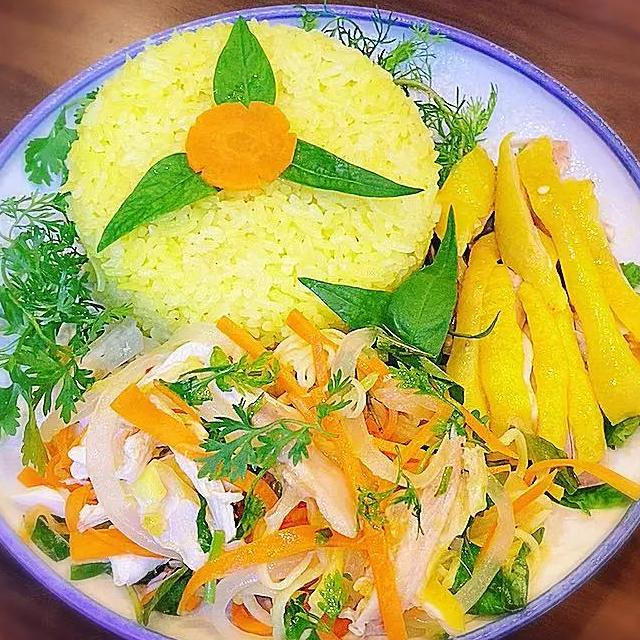com: (50, 11, 448, 360)
rau ram: (287, 200, 503, 416), (18, 482, 220, 632), (92, 144, 228, 253), (489, 421, 640, 514), (260, 130, 426, 206), (442, 510, 548, 620), (208, 12, 282, 124)
thit ga: (418, 125, 640, 492)
